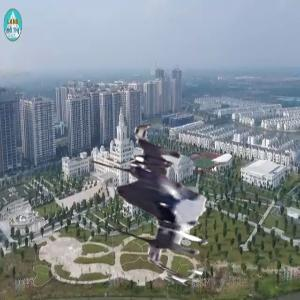drone: (65, 115, 224, 274)
